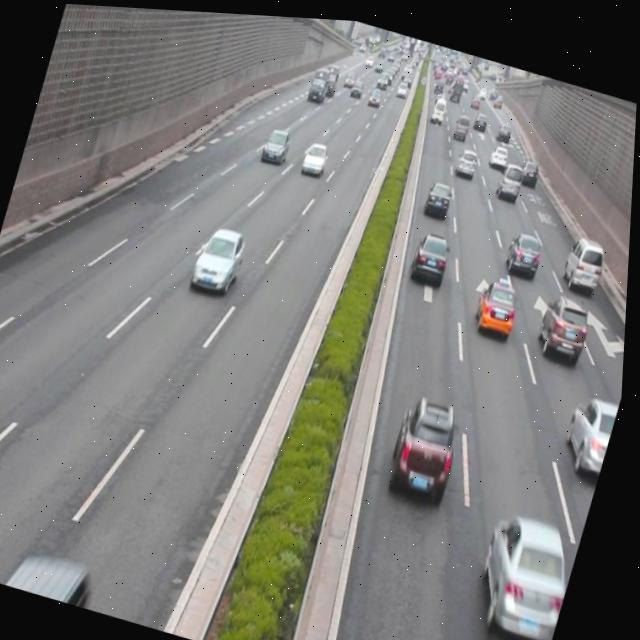car: (473, 499, 587, 640), (386, 384, 472, 503), (562, 381, 624, 472), (190, 217, 251, 295), (536, 283, 595, 355), (472, 266, 525, 334), (410, 221, 455, 281), (506, 221, 548, 273), (261, 121, 295, 165), (425, 171, 456, 214), (300, 135, 330, 174)
truck: (562, 226, 609, 285)
